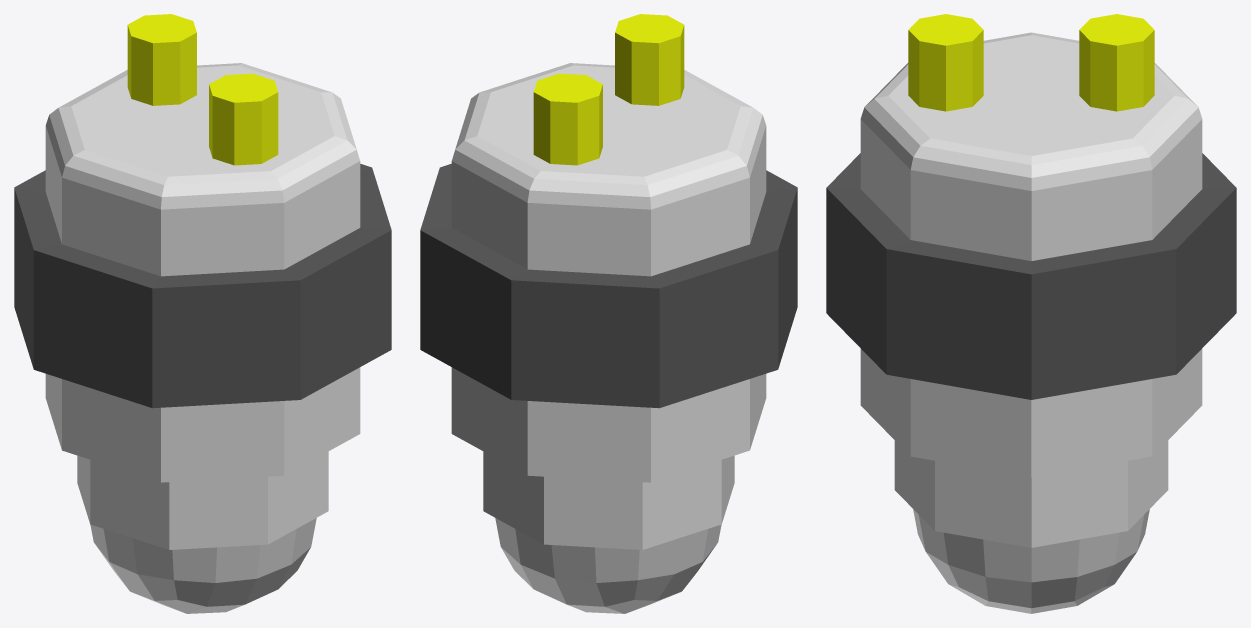
File: WireMale.fbx
3 views of the same model, side by side, from view 1: azimuth 30°, elevation 25°; view 2: azimuth 150°, elevation 25°; view 3: azimuth 270°, elevation 25° (orthographic). The views are drawn at different scales.
Visible parts, largest first — view 1: ConnectorMale, Cylidner, Point; view 2: ConnectorMale, Cylidner, Point; view 3: ConnectorMale, Cylidner, Point.
Boxes of the visible parts, bbox=[...] form: ConnectorMale: bbox=[14, 14, 391, 482]; Cylidner: bbox=[77, 451, 328, 549]; Point: bbox=[90, 518, 316, 613]; ConnectorMale: bbox=[420, 14, 797, 482]; Cylidner: bbox=[483, 451, 734, 549]; Point: bbox=[495, 518, 721, 613]; ConnectorMale: bbox=[826, 14, 1236, 477]; Cylidner: bbox=[894, 440, 1168, 547]; Point: bbox=[913, 509, 1149, 613].
Size of the model in its own units: 240 by 369 by 240.
